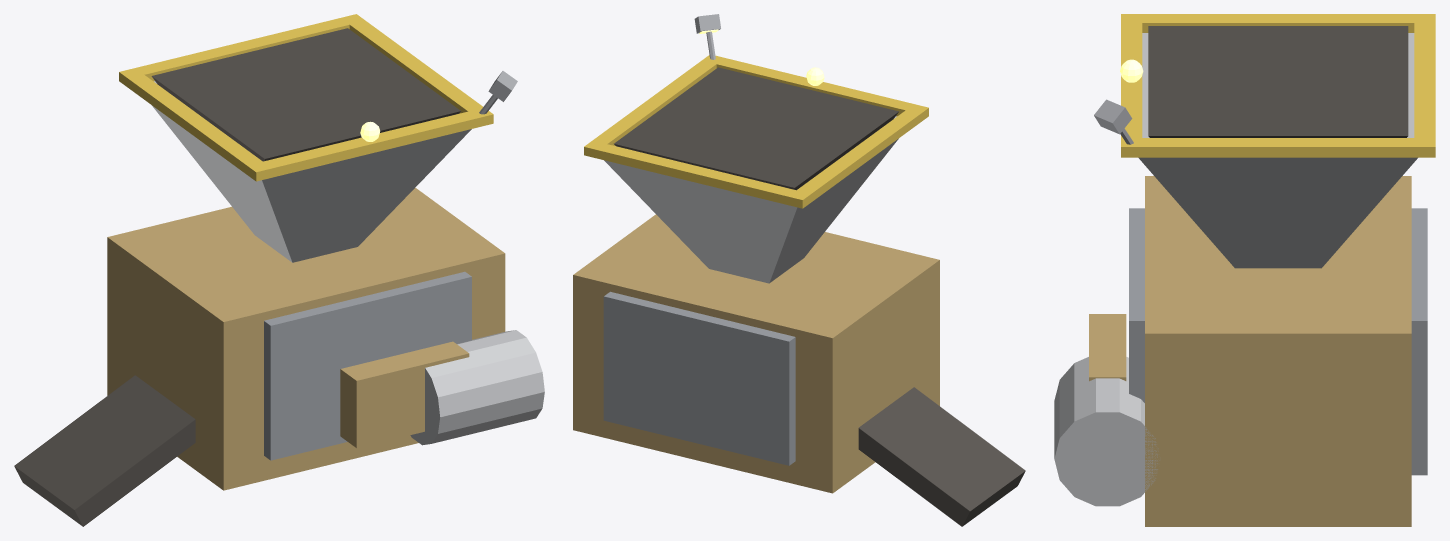
Rendered from crusher_module.glb.
3 views of the same model, side by side, from view 1: azimuth 30°, elevation 25°; view 2: azimuth 150°, elevation 25°; view 3: azimuth 270°, elevation 25° (orthographic). The views are drawn at different scales.
Parts seen in each view (by area): view 1: body, hopper_throat, cheek_s, hopper_shell, chute, motor, belt_guard, rim_s, rim_w, rim_e, rim_n; view 2: body, cheek_p, hopper_throat, hopper_shell, chute, rim_n, rim_w, rim_e, rim_s; view 3: body, hopper_throat, hopper_shell, motor, rim_e, cheek_p, rim_w, cheek_s, rim_n, belt_guard, rim_s, hopper_fl_housing.
Boxes of the visible parts, left/top/right/bottom form: body: left=107, top=187, right=505, bottom=490; hopper_throat: left=151, top=28, right=460, bottom=161; cheek_s: left=264, top=271, right=471, bottom=460; hopper_shell: left=152, top=81, right=471, bottom=262; chute: left=14, top=375, right=195, bottom=526; motor: left=410, top=330, right=544, bottom=445; belt_guard: left=340, top=341, right=469, bottom=448; rim_s: left=247, top=109, right=493, bottom=181; rim_w: left=119, top=68, right=272, bottom=181; rim_e: left=341, top=14, right=493, bottom=126; rim_n: left=119, top=14, right=364, bottom=87; body: left=573, top=214, right=939, bottom=493; cheek_p: left=603, top=291, right=795, bottom=465; hopper_throat: left=614, top=67, right=898, bottom=190; hopper_shell: left=604, top=116, right=898, bottom=283; chute: left=858, top=387, right=1025, bottom=526; rim_n: left=584, top=144, right=811, bottom=208; rim_w: left=788, top=106, right=928, bottom=207; rim_e: left=584, top=55, right=724, bottom=158; rim_s: left=706, top=55, right=928, bottom=121; body: left=1145, top=176, right=1411, bottom=526; hopper_throat: left=1148, top=26, right=1408, bottom=137; hopper_shell: left=1138, top=33, right=1417, bottom=268; motor: left=1054, top=357, right=1159, bottom=506; rim_e: left=1121, top=138, right=1435, bottom=157; cheek_p: left=1411, top=208, right=1427, bottom=475; rim_w: left=1121, top=14, right=1434, bottom=32; cheek_s: left=1129, top=208, right=1144, bottom=402; rim_n: left=1414, top=14, right=1435, bottom=157; belt_guard: left=1089, top=314, right=1126, bottom=381; rim_s: left=1121, top=14, right=1142, bottom=157; hopper_fl_housing: left=1094, top=99, right=1132, bottom=134.
Size of the model in its own units: 10.01 by 9.25 by 7.15.
